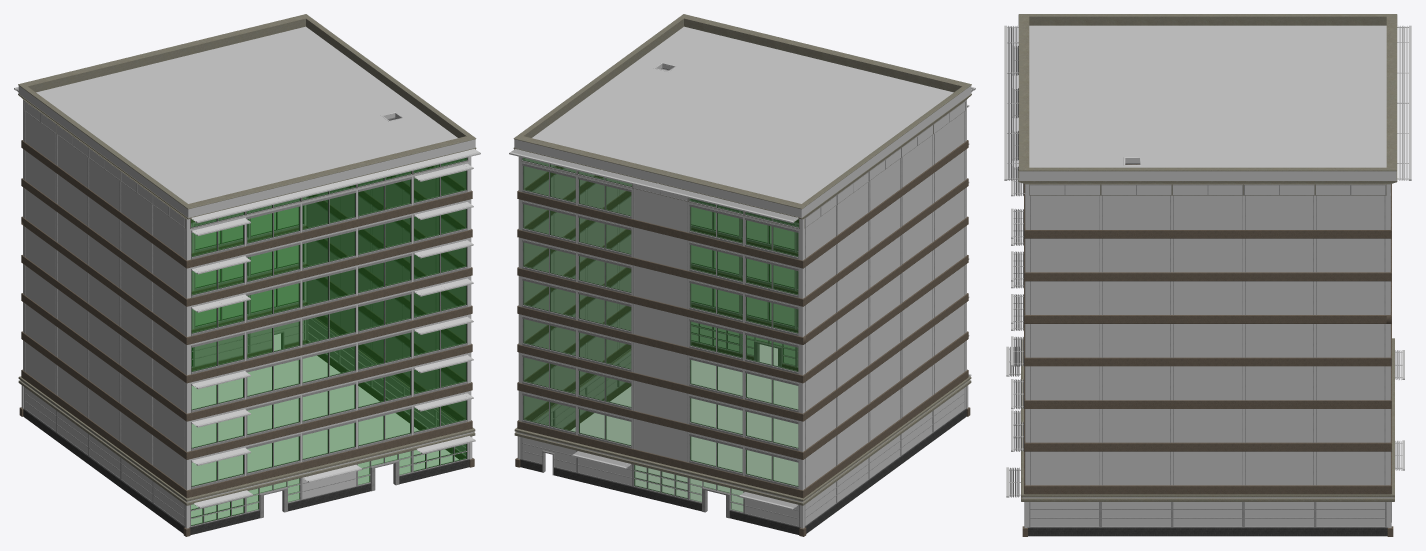
The model's file is Building03_V3.fbx.
3 renders of one model, left to right at view 1: azimuth 30°, elevation 25°; view 2: azimuth 150°, elevation 25°; view 3: azimuth 270°, elevation 25°, orthographic. The views are drawn at different scales.
Parts seen in each view (by area): view 1: SM_Building03_V3; view 2: SM_Building03_V3; view 3: SM_Building03_V3.
Part boxes in pixels (x1=…): SM_Building03_V3: x1=14, y1=14, x2=480, y2=536; SM_Building03_V3: x1=509, y1=14, x2=975, y2=536; SM_Building03_V3: x1=1004, y1=14, x2=1411, y2=536.
Bounding box in the file's own units: 3200 × 3488 × 3516.
